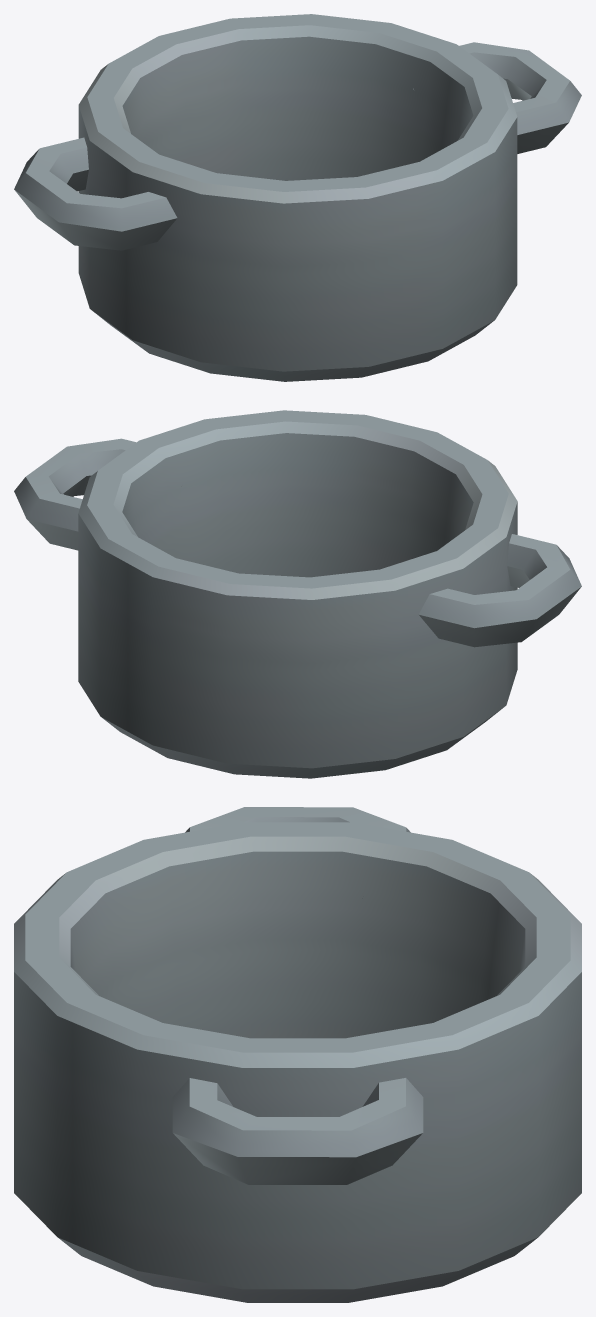
The model's file is kkr.pot_a.glb.
3 renders of one model, top to bottom at view 1: azimuth 30°, elevation 25°; view 2: azimuth 150°, elevation 25°; view 3: azimuth 270°, elevation 25°, orthographic. The views are drawn at different scales.
Parts seen in each view (by area): view 1: pot_A; view 2: pot_A; view 3: pot_A.
Boxes of the visible parts, box(x1,y1,x2,y2) form: pot_A: box(14, 14, 581, 381); pot_A: box(14, 410, 581, 778); pot_A: box(14, 807, 581, 1302).
Size of the model in its own units: 0.3859 by 0.1378 by 0.2757.
1 material, 1 textured.
